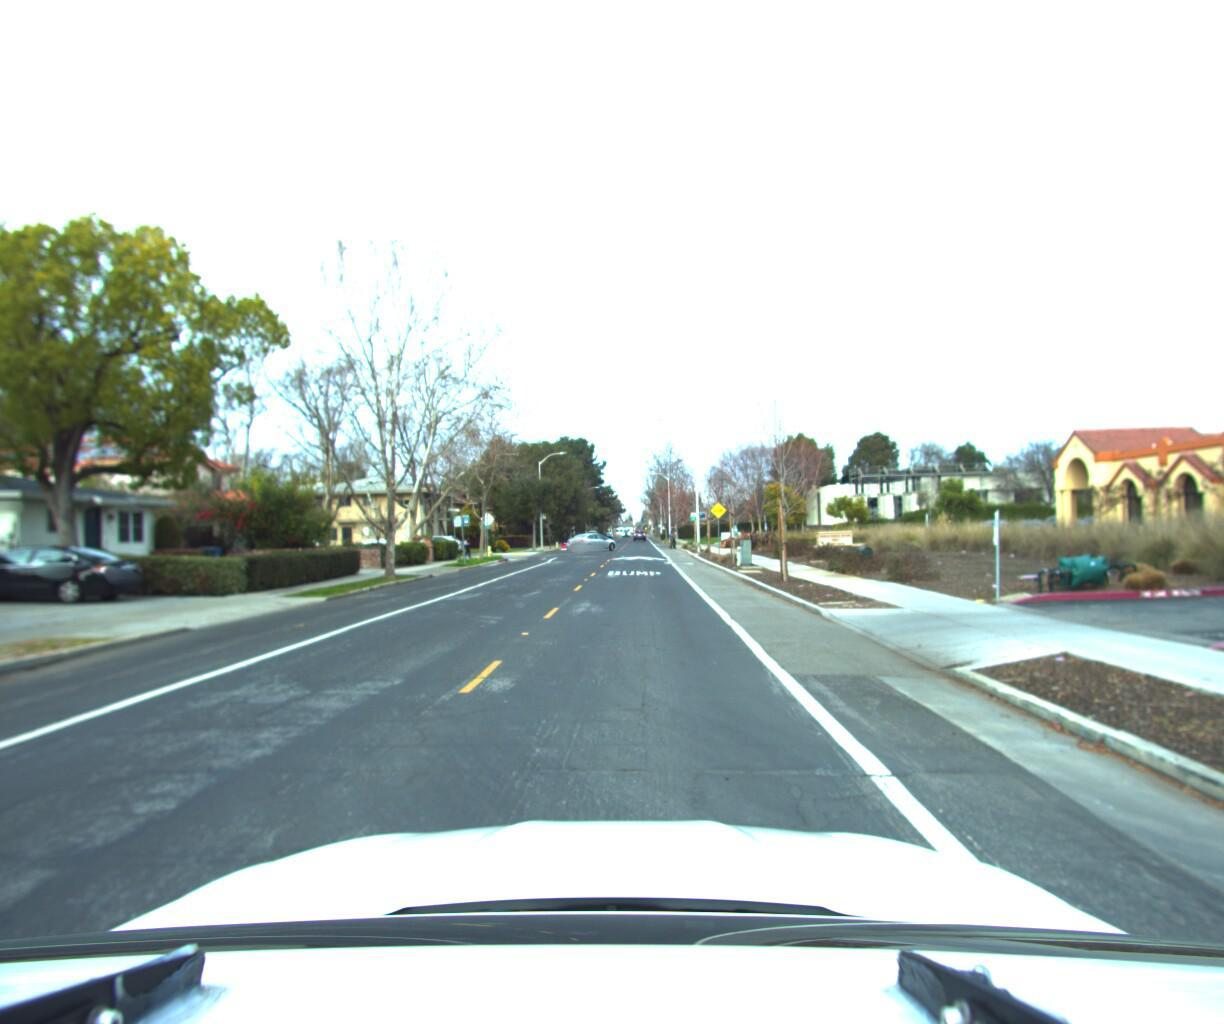car: (0, 541, 159, 608), (560, 526, 615, 549)
